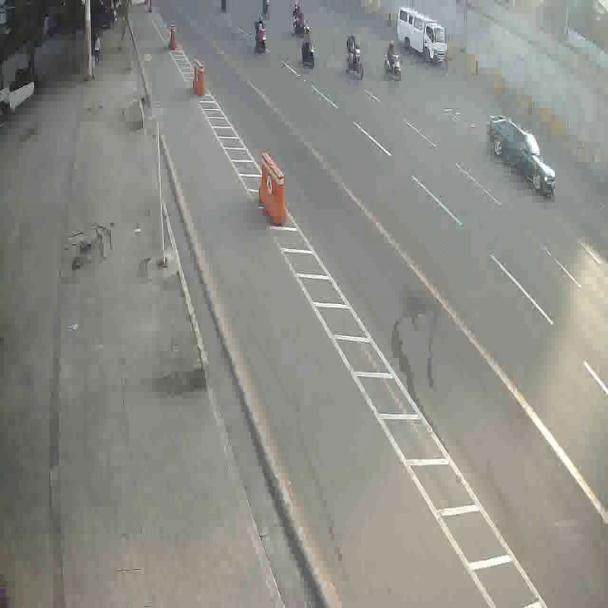motorcyclist: (486, 112, 558, 195), (343, 28, 365, 83), (299, 21, 318, 74), (382, 38, 402, 81), (251, 16, 270, 55)
vehicle: (397, 8, 448, 64)
